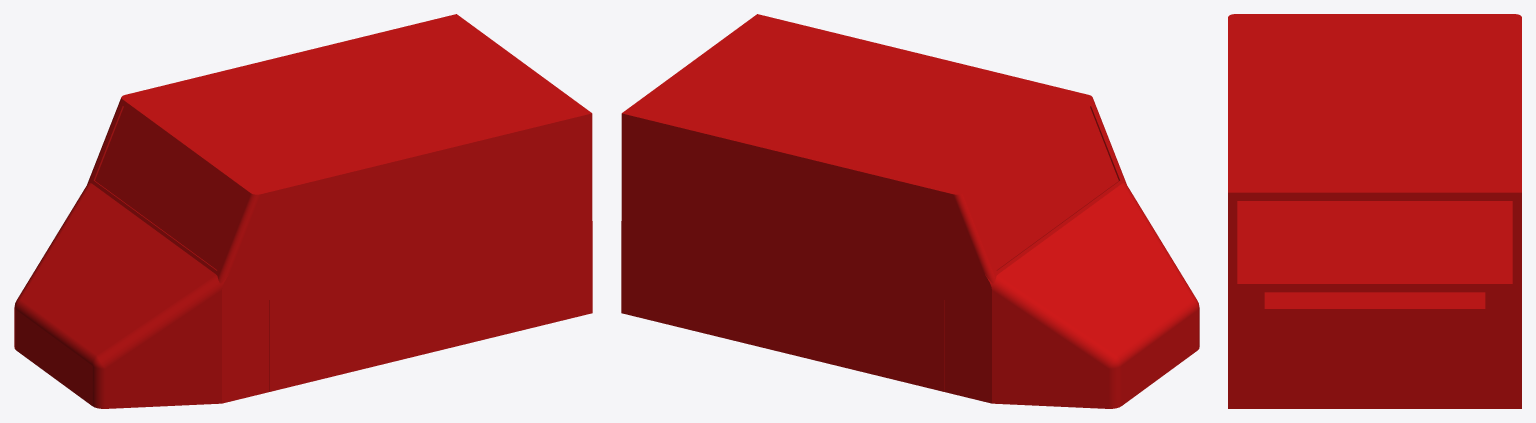
The model's file is chassis.obj.
3 views of the same model, side by side, from view 1: azimuth 30°, elevation 25°; view 2: azimuth 150°, elevation 25°; view 3: azimuth 270°, elevation 25° (orthographic). The views are drawn at different scales.
Parts seen in each view (by area): view 1: Solid1:3, Solid1:4, Solid1, Solid1:2; view 2: Solid1:3, Solid1:4, Solid1, Solid1:1; view 3: Solid1:3, Solid1, Solid1:4, Solid1:1, Solid1:2.
Part boxes in pixels (x1=…): Solid1:3: x1=134, y1=14, x2=592, y2=284; Solid1:4: x1=14, y1=93, x2=268, y2=408; Solid1: x1=269, y1=221, x2=592, y2=391; Solid1:2: x1=269, y1=206, x2=592, y2=299; Solid1:3: x1=621, y1=14, x2=1079, y2=284; Solid1:4: x1=945, y1=93, x2=1199, y2=408; Solid1: x1=621, y1=221, x2=944, y2=391; Solid1:1: x1=621, y1=206, x2=944, y2=299; Solid1:3: x1=1228, y1=21, x2=1521, y2=304; Solid1: x1=1228, y1=292, x2=1521, y2=408; Solid1:4: x1=1228, y1=14, x2=1521, y2=21; Solid1:1: x1=1485, y1=292, x2=1521, y2=308; Solid1:2: x1=1228, y1=292, x2=1264, y2=308.
Bounding box in the file's own units: 0.813 × 0.3302 × 0.4064.
